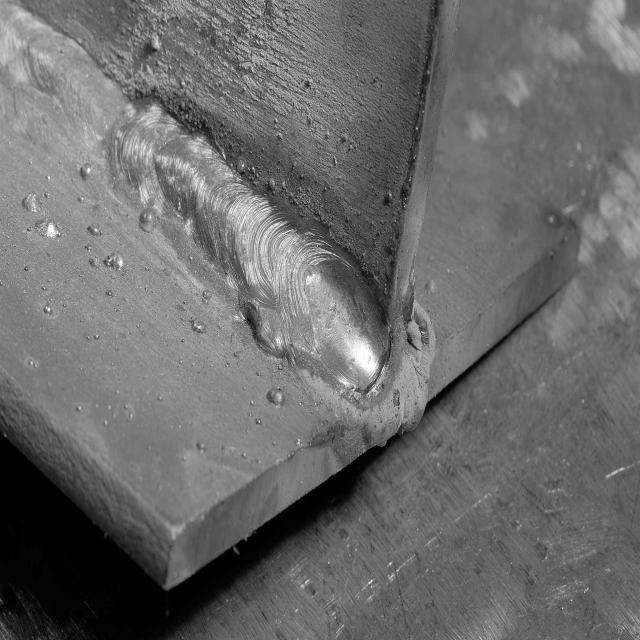Good Weld: (114, 107, 390, 386), (3, 9, 148, 192)
